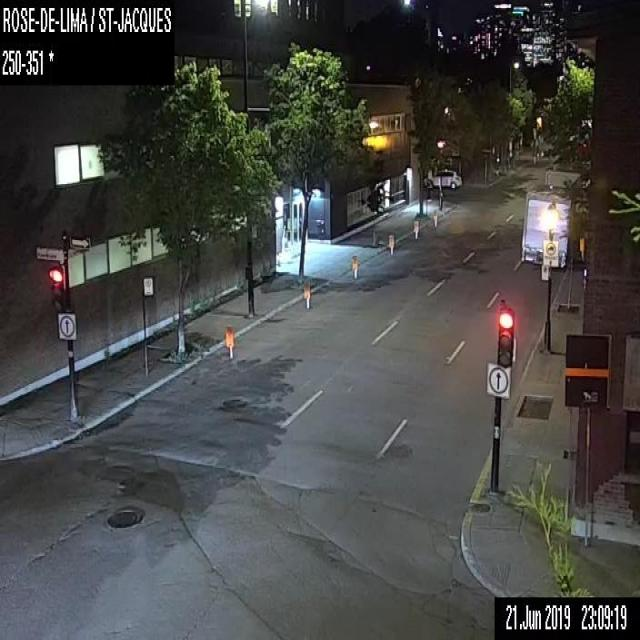construction: (350, 252, 359, 277), (225, 325, 232, 356), (303, 283, 310, 306), (386, 234, 394, 252), (412, 219, 418, 238), (432, 211, 437, 226)
vehicle: (521, 185, 580, 271), (423, 167, 462, 188)
